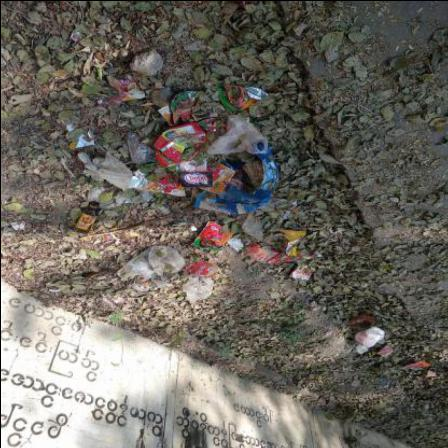Bottle: (75, 203, 101, 235)
Plastic bag - wrapper: (194, 143, 279, 215), (116, 246, 186, 292), (158, 91, 228, 135), (208, 115, 269, 156), (154, 122, 207, 164), (79, 153, 134, 192), (216, 84, 270, 111), (135, 169, 187, 197), (192, 222, 235, 252), (247, 242, 297, 267), (155, 143, 204, 168), (201, 161, 237, 195), (124, 132, 158, 164), (180, 158, 213, 188), (88, 188, 126, 211), (278, 227, 308, 256), (182, 274, 213, 302), (115, 74, 144, 102), (355, 327, 385, 354), (182, 260, 221, 280), (66, 123, 95, 149), (272, 199, 298, 222), (242, 212, 263, 240), (102, 228, 140, 242), (282, 245, 315, 261), (99, 90, 129, 107), (224, 160, 243, 180), (291, 266, 313, 281), (405, 362, 433, 372), (376, 344, 394, 358), (70, 28, 87, 42), (104, 298, 126, 308), (142, 190, 154, 202), (128, 177, 140, 189), (158, 205, 172, 215), (423, 371, 437, 377)
Unlabeled litter: (227, 237, 247, 253)
